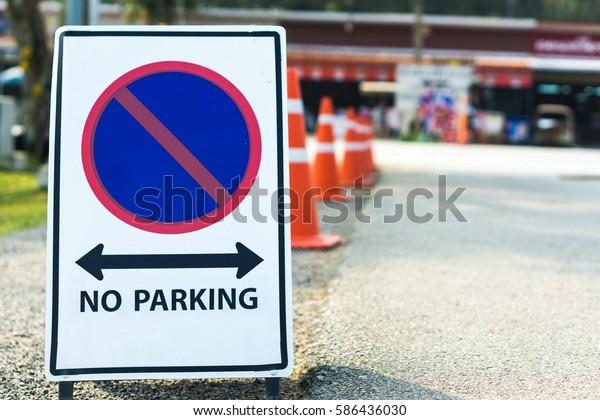No Parking: (61, 60, 271, 316)
